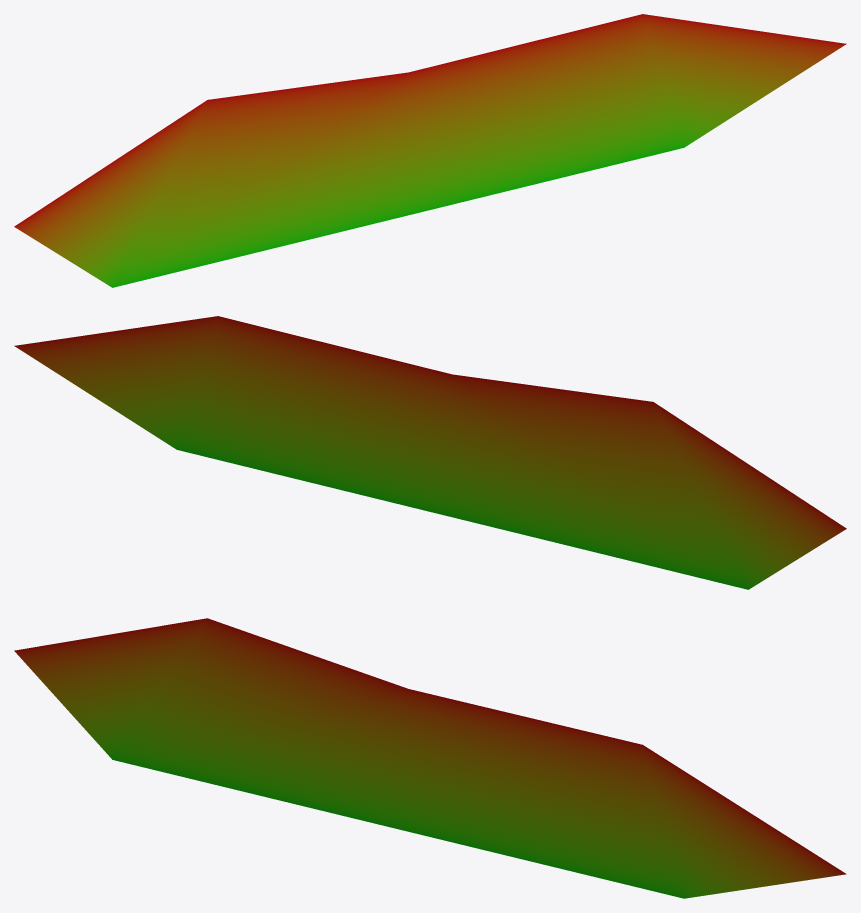
The model's file is Tundra Grass_LOD7_Var26_wk2oaeyqx.fbx.
The picture shows the model from 3 angles, top to bottom: view 1: azimuth 30°, elevation 25°; view 2: azimuth 150°, elevation 25°; view 3: azimuth 330°, elevation 25°; orthographic projection.
Parts seen in each view (by area): view 1: _uryx_Var26_LOD7; view 2: _uryx_Var26_LOD7; view 3: _uryx_Var26_LOD7.
Part boxes in pixels (x1,y1,x2,y2): _uryx_Var26_LOD7: [14, 14, 846, 287]; _uryx_Var26_LOD7: [14, 316, 846, 589]; _uryx_Var26_LOD7: [14, 618, 846, 898].
Bounding box in the file's own units: 99.55 × 18.82 × 8.23e-07.
